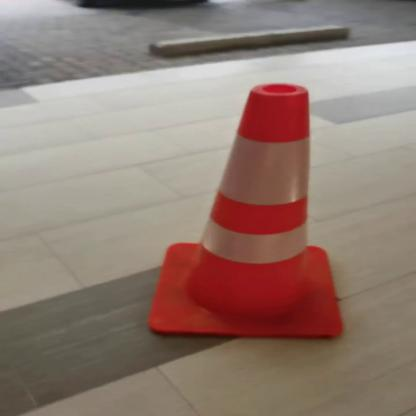cone: (136, 80, 353, 347)
